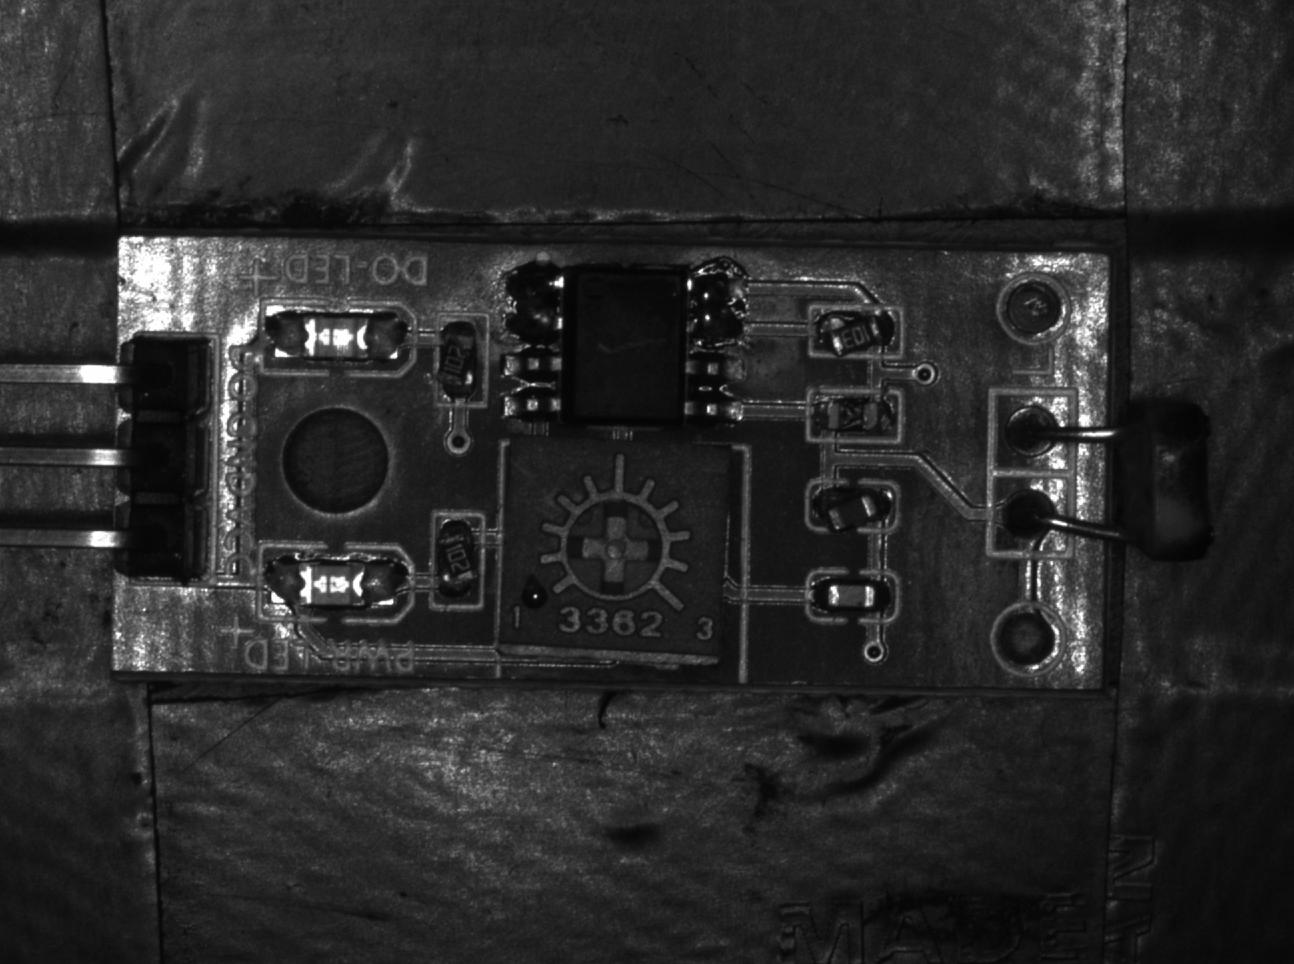bridge: (689, 264, 745, 344), (504, 268, 567, 336)
lifted: (808, 303, 904, 361), (807, 480, 898, 535), (433, 510, 481, 605), (438, 313, 485, 403)
miss: (808, 389, 897, 444)
ok: (809, 568, 897, 621)
